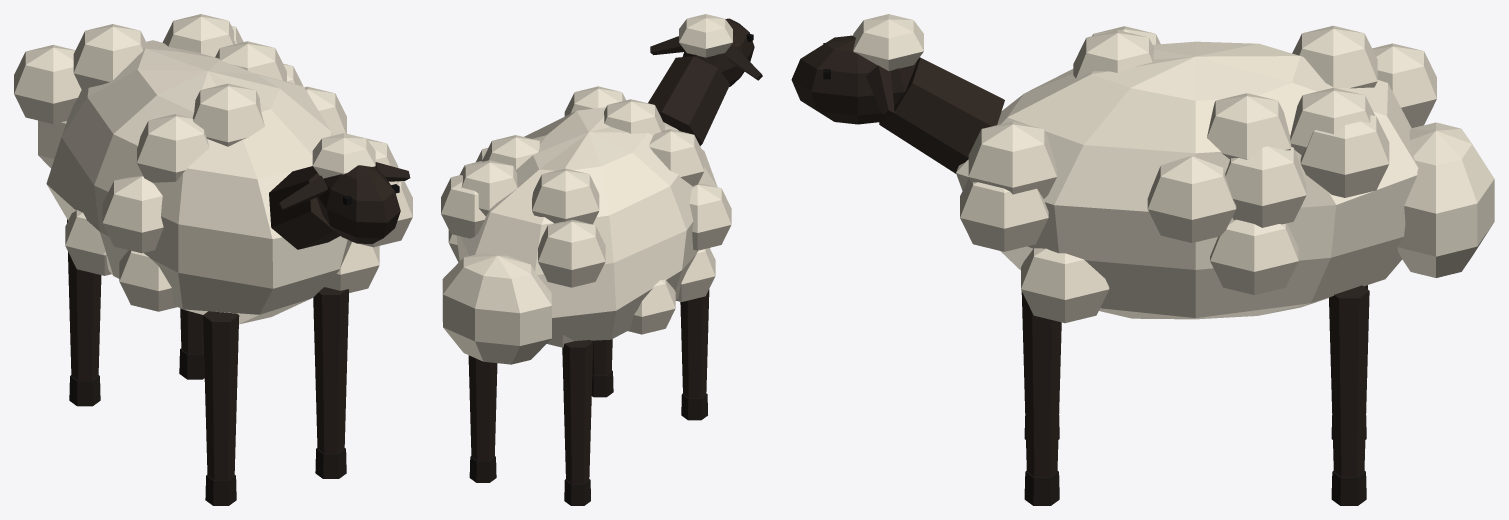
Rendered from Animal_Sheep.obj.
The picture shows the model from 3 angles, left to right: view 1: azimuth 30°, elevation 25°; view 2: azimuth 150°, elevation 25°; view 3: azimuth 270°, elevation 25°; orthographic projection. The views are drawn at different scales.
Parts seen in each view (by area): view 1: Animal_Sheep; view 2: Animal_Sheep; view 3: Animal_Sheep.
Boxes of the visible parts, x1=… form: Animal_Sheep: x1=14, y1=14, x2=412, y2=505; Animal_Sheep: x1=441, y1=14, x2=762, y2=505; Animal_Sheep: x1=791, y1=14, x2=1494, y2=505.
Size of the model in its own units: 0.6948 by 0.97 by 1.37.
